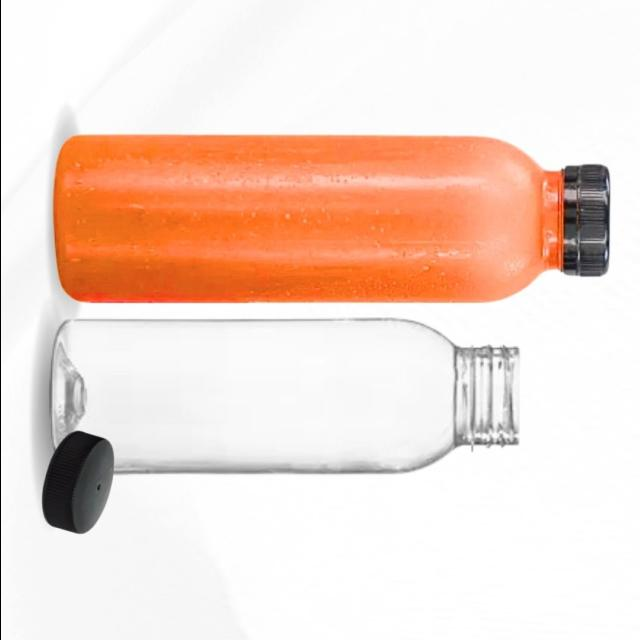bottle: (54, 135, 608, 301), (50, 319, 519, 472)
